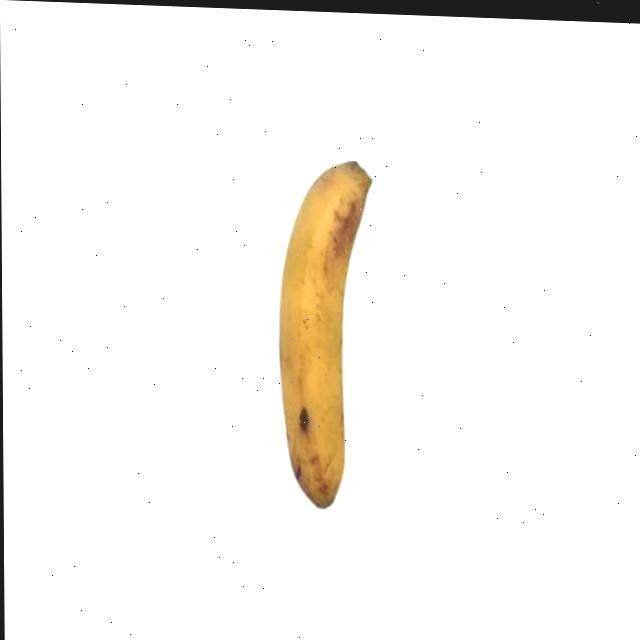banana: (274, 158, 379, 507)
